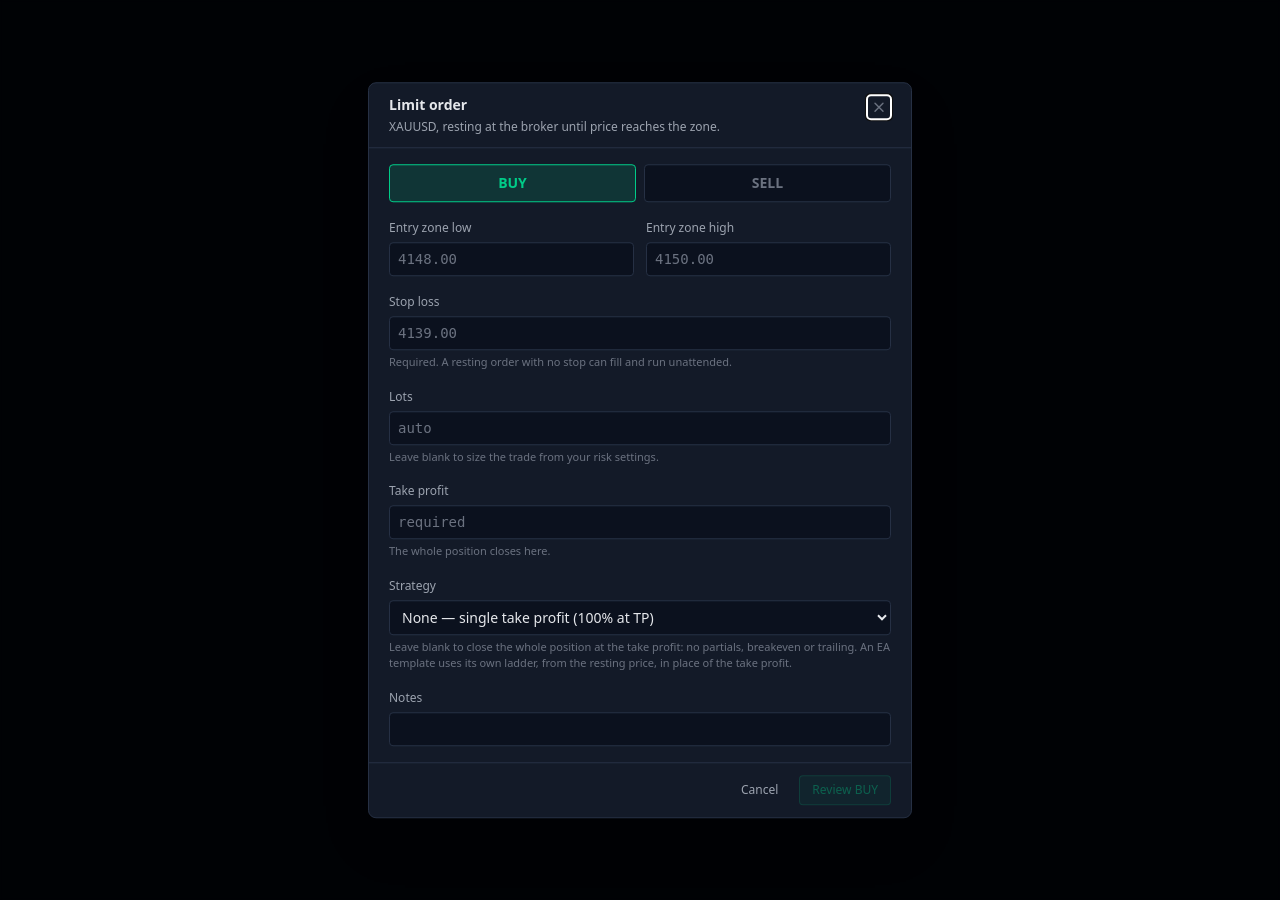
Test: example prices › move to the other side of price for a SELL
Click the button "SELL" at (768, 183), box [644, 164, 891, 202]
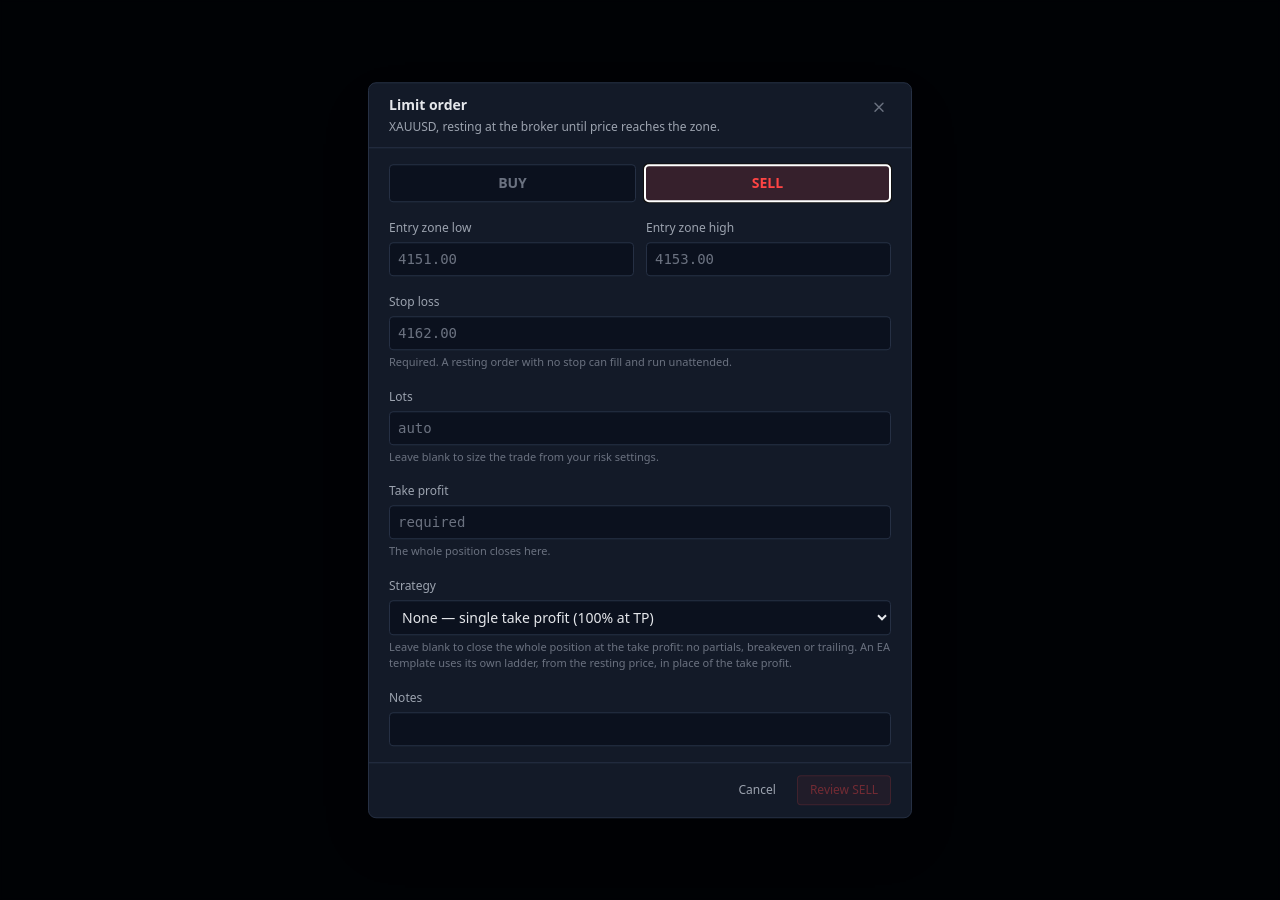
Expected: the field labelled "Entry zone low" has attribute placeholder="4151.00", [389, 242, 634, 276]
Expected: the field labelled "Stop loss" has attribute placeholder="4162.00", [389, 316, 891, 350]
